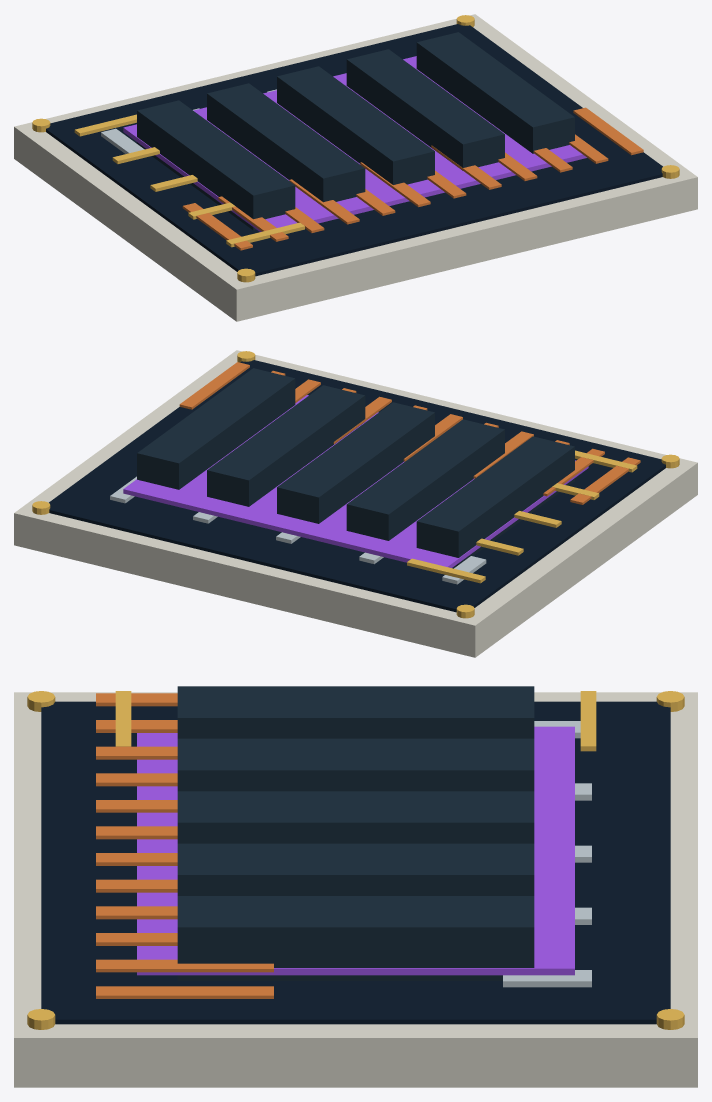
The model's file is 07_L79_MemoryChiplet.fbx.
3 renders of one model, top to bottom at view 1: azimuth 30°, elevation 25°; view 2: azimuth 150°, elevation 25°; view 3: azimuth 270°, elevation 25°, orthographic. The views are drawn at different scales.
Parts seen in each view (by area): view 1: MemoryChiplet; view 2: MemoryChiplet; view 3: MemoryChiplet.
Boxes of the visible parts, x1,y1,x2,y2 form: MemoryChiplet: (14, 14, 697, 321); MemoryChiplet: (14, 350, 697, 657); MemoryChiplet: (14, 686, 697, 1087).
Size of the model in its own units: 165 by 25.26 by 138.
